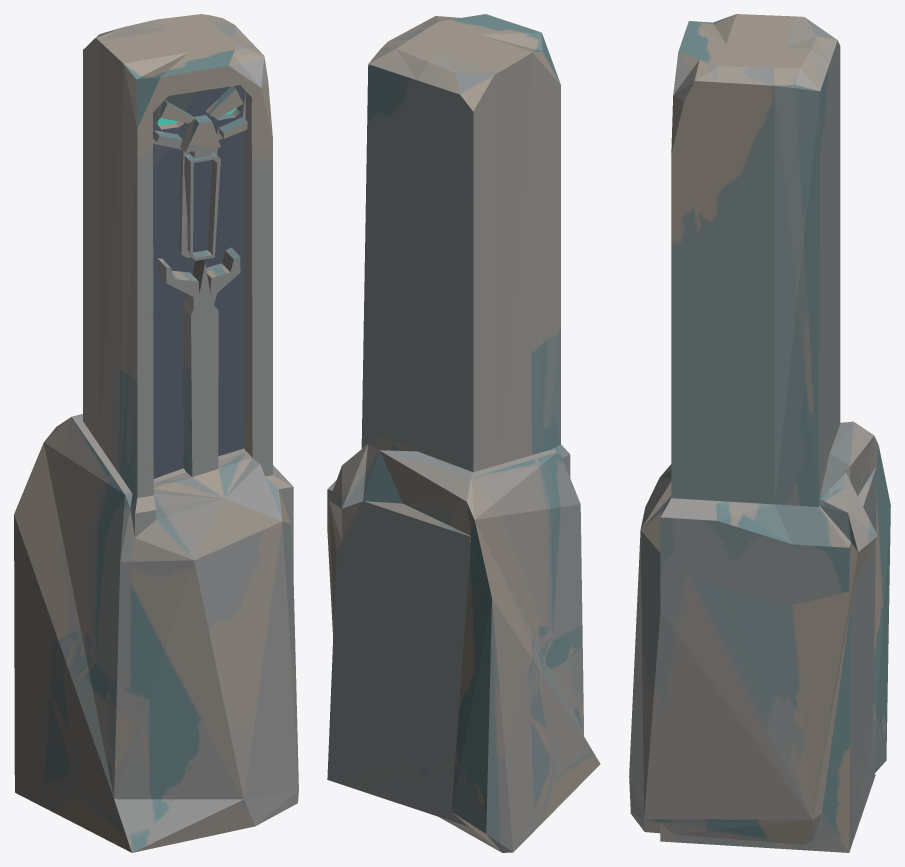
The model's file is s_stone ghost02_04.fbx.
The picture shows the model from 3 angles, left to right: view 1: azimuth 30°, elevation 25°; view 2: azimuth 150°, elevation 25°; view 3: azimuth 270°, elevation 25°; orthographic projection. The views are drawn at different scales.
Parts seen in each view (by area): view 1: s_stone ghost02_04; view 2: s_stone ghost02_04; view 3: s_stone ghost02_04.
Boxes of the visible parts, box(x1,y1,x2,y2) form: s_stone ghost02_04: box(14, 14, 298, 852); s_stone ghost02_04: box(327, 14, 600, 852); s_stone ghost02_04: box(629, 14, 890, 852).
Bounding box in the file's own units: 178 × 630 × 190.
1 material, 1 textured.
